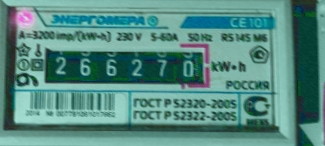0: (179, 56, 193, 76)
2: (52, 53, 65, 74), (129, 56, 142, 76)
6: (77, 54, 89, 75), (103, 55, 116, 74)
7: (155, 56, 165, 75)
screen: (31, 36, 214, 92)
